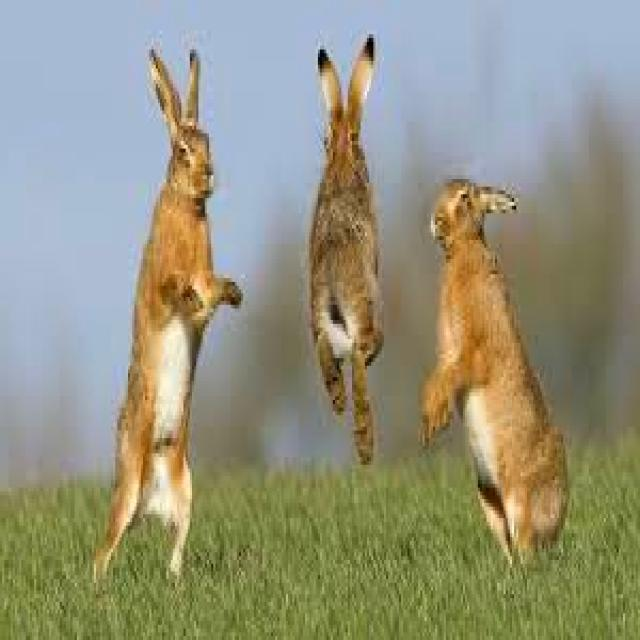hare: (96, 50, 243, 575), (422, 179, 567, 560), (309, 34, 384, 461)
